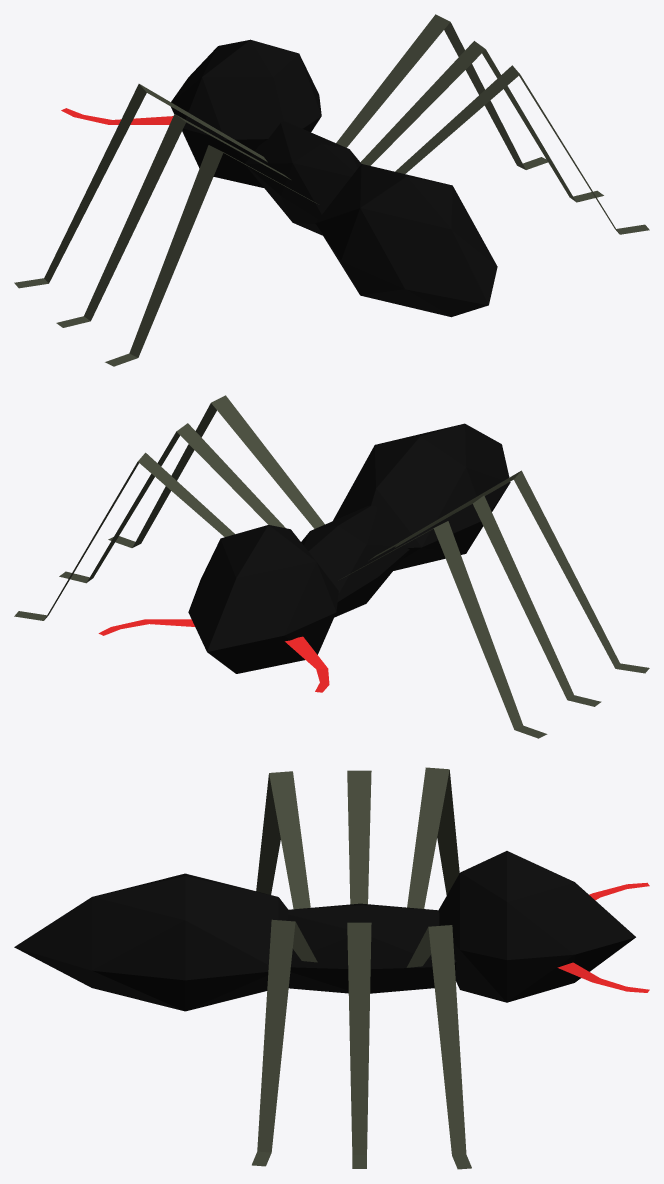
Rendered from ant.obj.
3 views of the same model, one above another, from view 1: azimuth 30°, elevation 25°; view 2: azimuth 150°, elevation 25°; view 3: azimuth 270°, elevation 25° (orthographic). The views are drawn at different scales.
Parts seen in each view (by area): view 1: back1, Sphere_4, Sphere_3, Spline_Mesh_2_2, Spline_Mesh_2_3, Spline_Mesh_2_5, Spline_Mesh_2, Spline_Mesh_2_4, Spline_Mesh_2_1, Spline_Mesh_2_6; view 2: Sphere_4, back1, Sphere_3, Spline_Mesh_2_1, Spline_Mesh_2_4, Spline_Mesh_2_5, Spline_Mesh_2, Spline_Mesh_2_3, Spline_Mesh_2_2, Spline_Mesh_2_6, Spline_Mesh_2_7; view 3: back1, Sphere_4, Sphere_3, Spline_Mesh_2_1, Spline_Mesh_2_2, Spline_Mesh_2, Spline_Mesh_2_3, Spline_Mesh_2_4, Spline_Mesh_2_5, Spline_Mesh_2_7.
Boxes of the visible parts, x1,y1,x2,y2 form: back1: (315,164,497,317); Sphere_4: (171,39,321,187); Sphere_3: (245,121,361,235); Spline_Mesh_2_2: (336,14,547,169); Spline_Mesh_2_3: (105,145,318,366); Spline_Mesh_2_5: (56,114,290,327); Spline_Mesh_2: (360,41,603,202); Spline_Mesh_2_4: (14,84,267,288); Spline_Mesh_2_1: (395,65,649,234); Spline_Mesh_2_6: (61,108,173,124); Sphere_4: (188,525,338,673); back1: (333,423,510,570); Sphere_3: (301,505,409,617); Spline_Mesh_2_1: (108,395,324,547); Spline_Mesh_2_4: (338,521,547,738); Spline_Mesh_2_5: (369,495,601,706); Spline_Mesh_2: (59,423,285,583); Spline_Mesh_2_3: (395,470,649,673); Spline_Mesh_2_2: (14,452,234,620); Spline_Mesh_2_6: (285,636,329,692); Spline_Mesh_2_7: (98,619,194,635); back1: (14,873,289,1011); Sphere_4: (438,851,635,1002); Sphere_3: (288,903,456,993); Spline_Mesh_2_1: (252,919,317,1166); Spline_Mesh_2_2: (406,925,471,1169); Spline_Mesh_2: (347,922,371,1168); Spline_Mesh_2_3: (256,771,310,909); Spline_Mesh_2_4: (407,767,459,908); Spline_Mesh_2_5: (347,770,371,904); Spline_Mesh_2_7: (557,962,649,992).
Size of the model in its own units: 2.49 by 0.8004 by 2.43.
